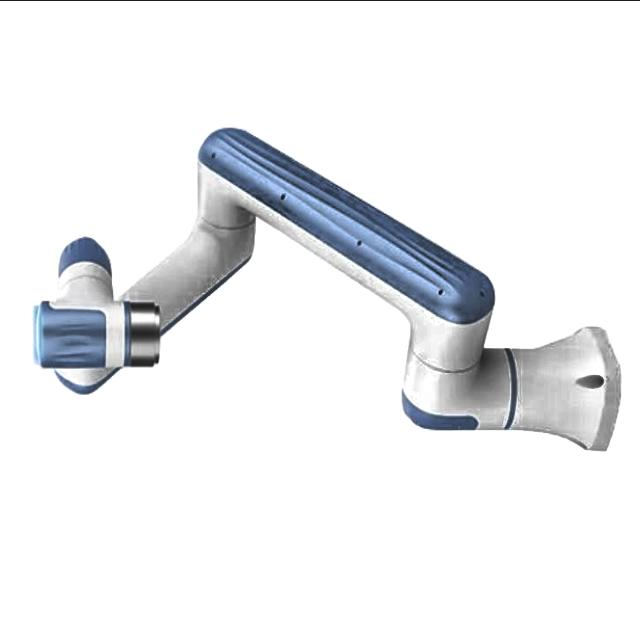robot: (29, 126, 622, 453)
